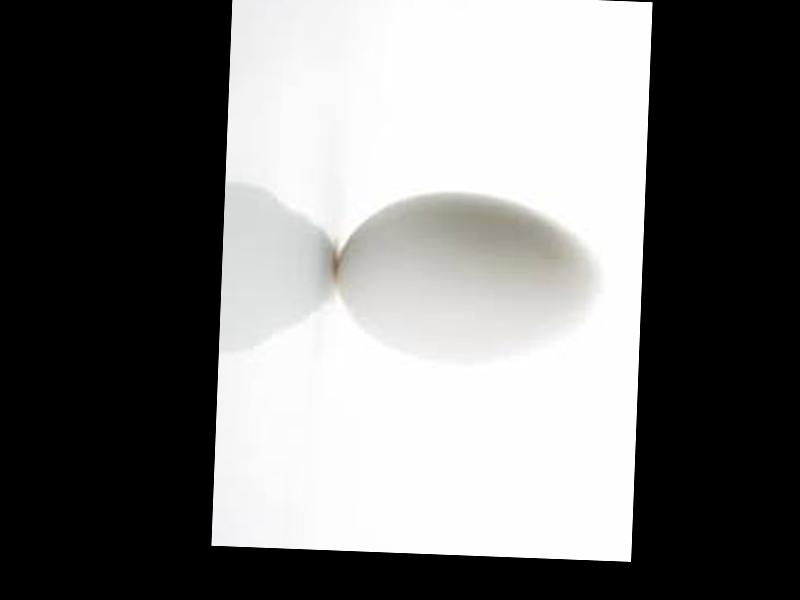Eggs: (333, 188, 603, 363)
